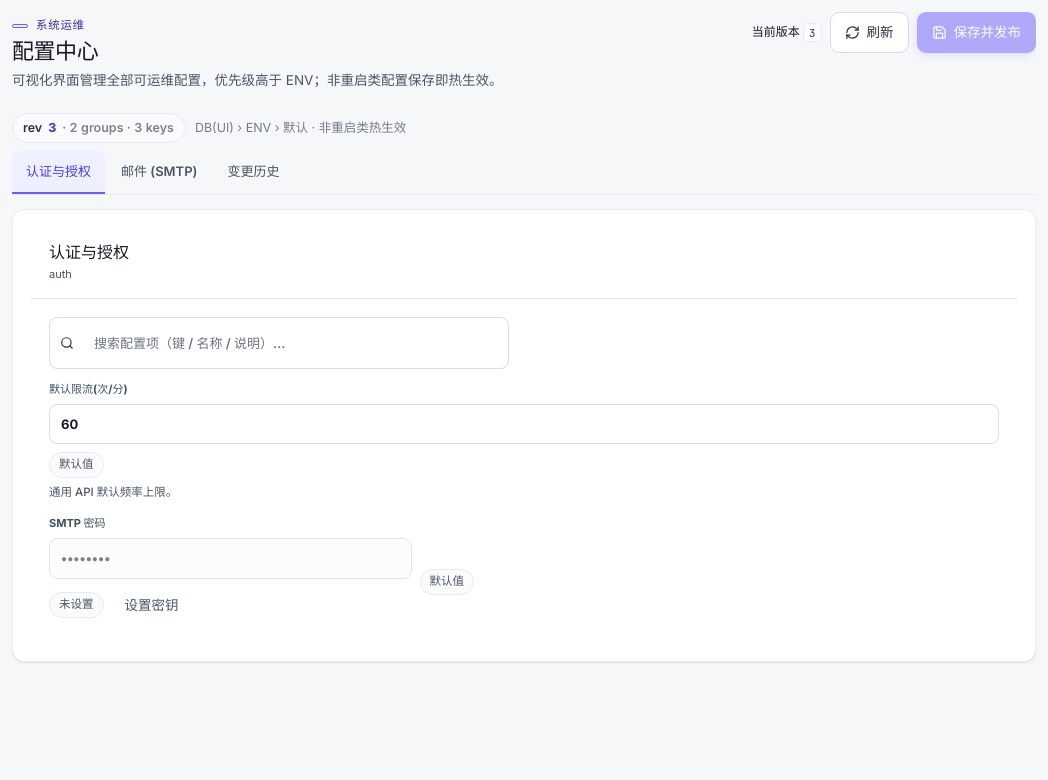
Scenario: AdminPlatformConfigPage › 搜索过滤无匹配时显示空态
This screenshot has width=1048, height=780.
Type "不存在的关键词xyz" into the search field with test id "cfg-search". click: (290, 343)
box: x1=82 y1=324 x2=498 y2=362
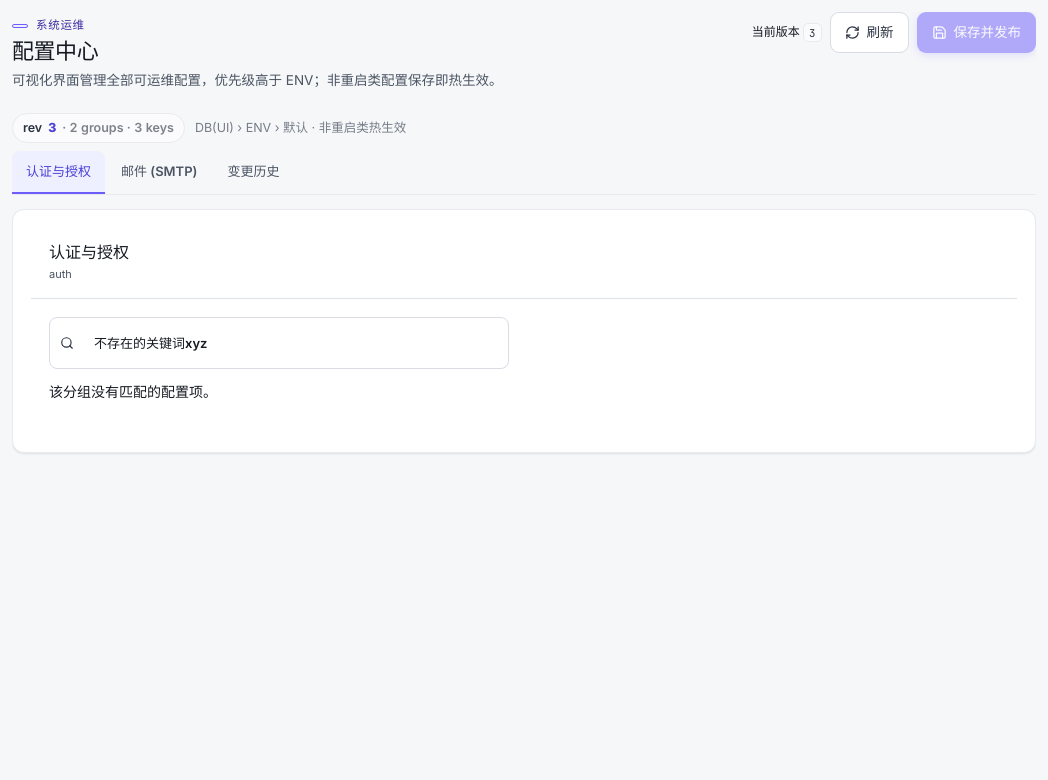
Now the text "该分组没有匹配的配置项。" is shown, box x1=49 y1=383 x2=217 y2=400
